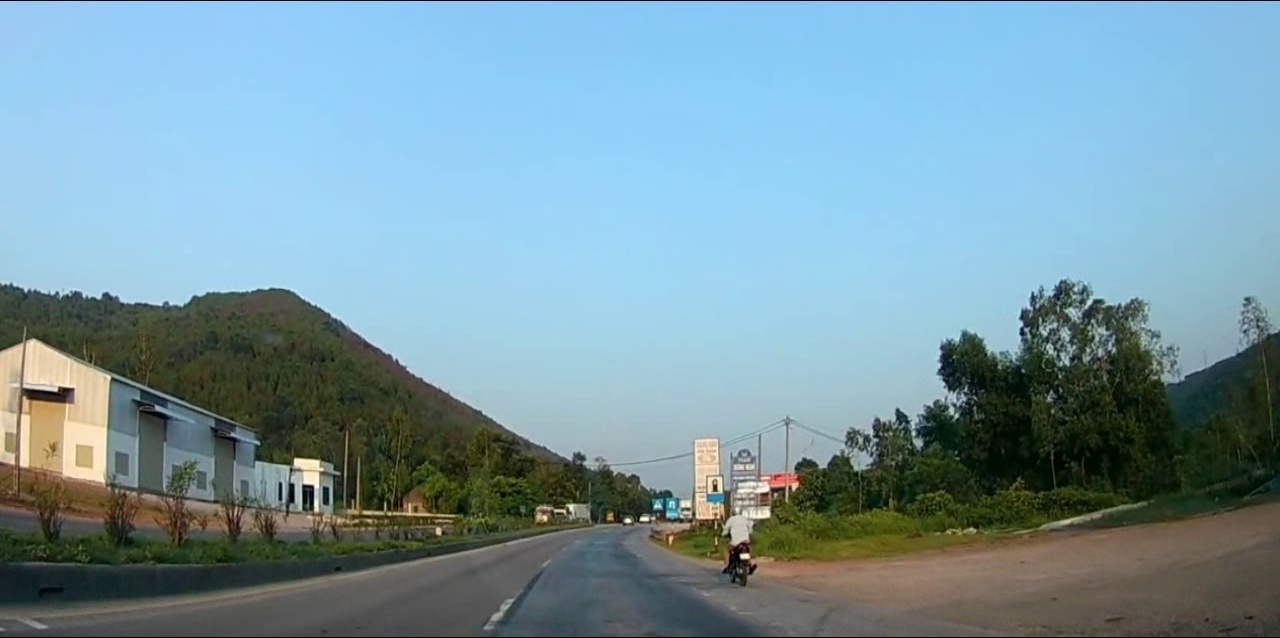Bien khac: (703, 474, 726, 504), (667, 499, 676, 514)
Nguoi di bo: (653, 497, 665, 511)
